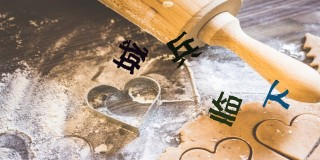下: (262, 80, 291, 111)
临: (207, 91, 243, 127)
兵: (166, 31, 203, 68)
城: (110, 38, 151, 74)
